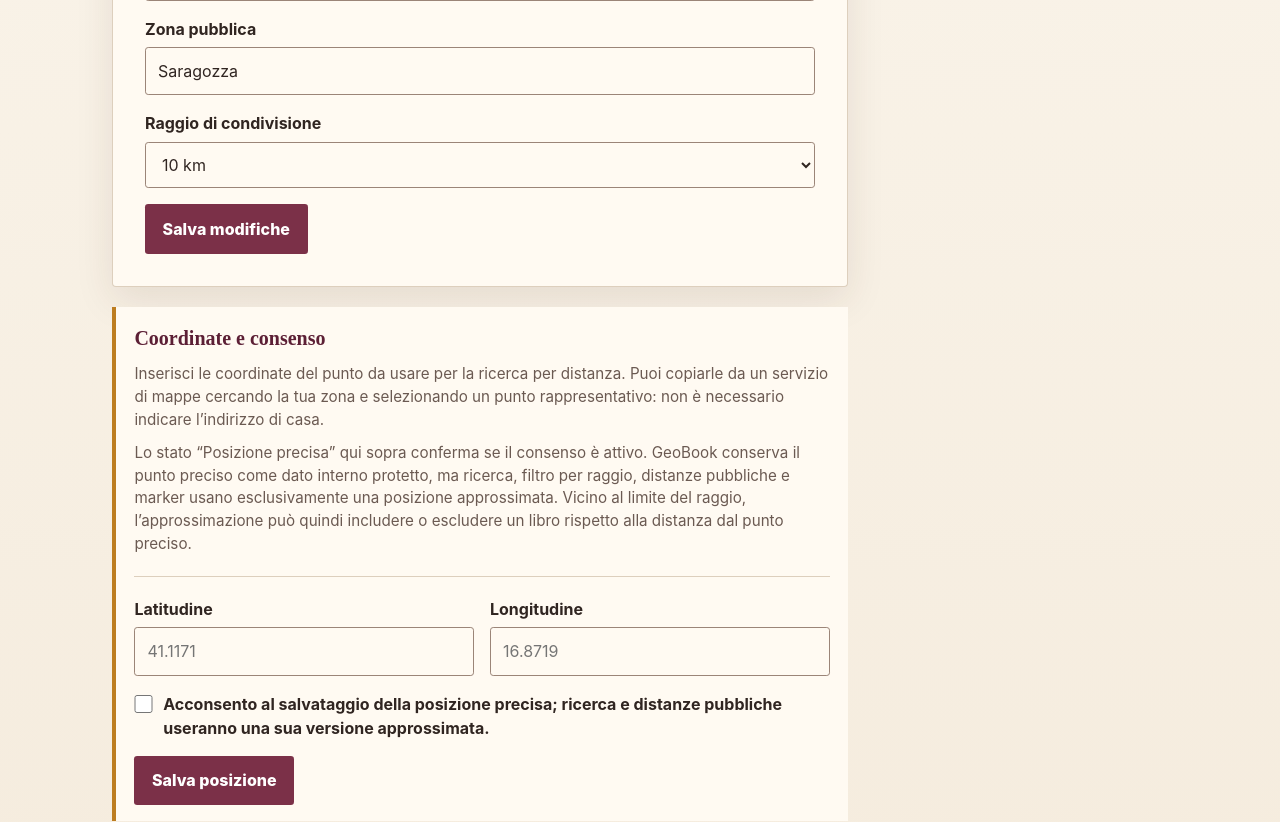
Scenario: profile page › validates coordinates and explicit consent before contacting the API
(page scrolled)
Type "91" into the field labelled "Latitudine". click: (304, 651)
box: top-left (134, 627), bottom-right (474, 676)
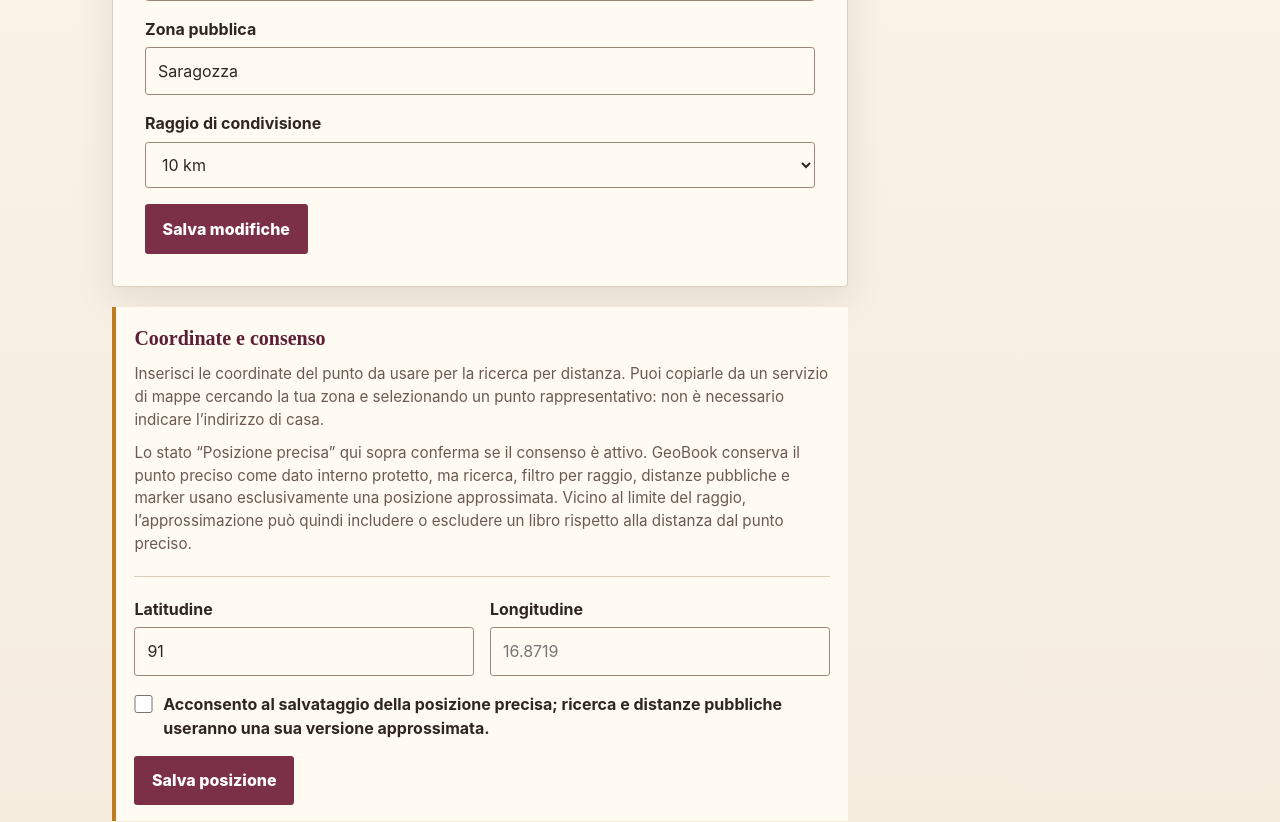
Type "181" into the field labelled "Longitudine". click: (660, 651)
box: top-left (490, 627), bottom-right (830, 676)
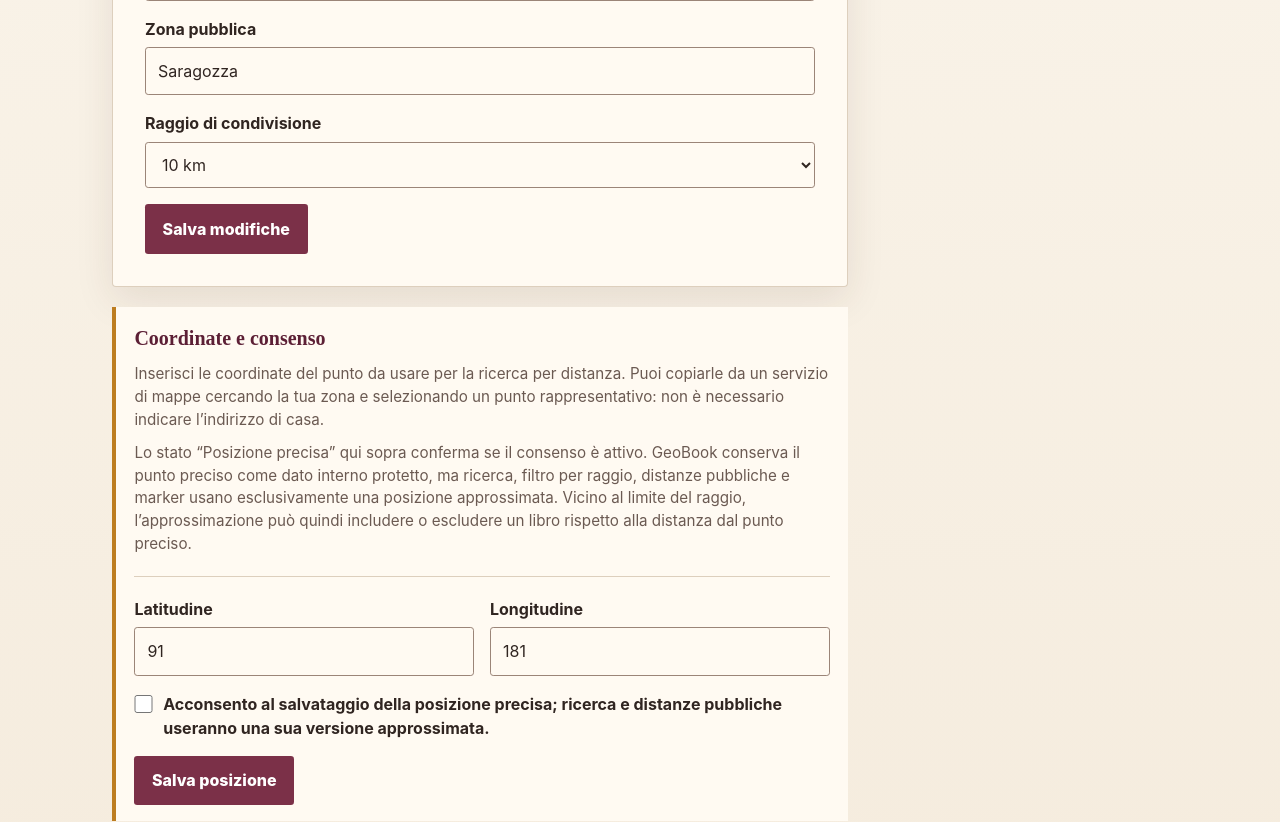
Click the button "Salva posizione". click: (214, 780)
box: top-left (134, 756), bottom-right (294, 805)
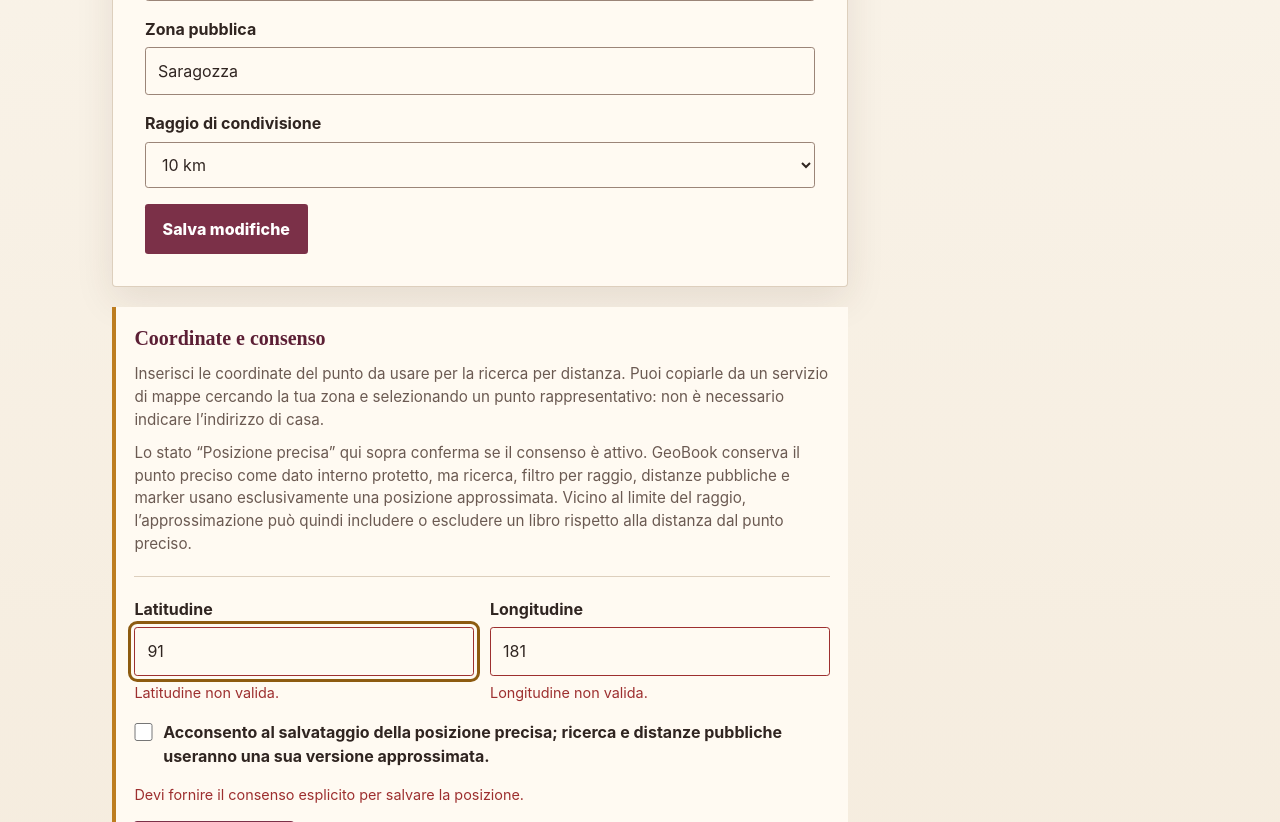
Now the text "Latitudine non valida." is shown, box top-left (134, 684), bottom-right (279, 701)
Now the text "Longitudine non valida." is shown, box top-left (490, 684), bottom-right (648, 701)
Now the text "Devi fornire il consenso esplicito per salvare la posizione." is shown, box top-left (134, 786), bottom-right (524, 802)
